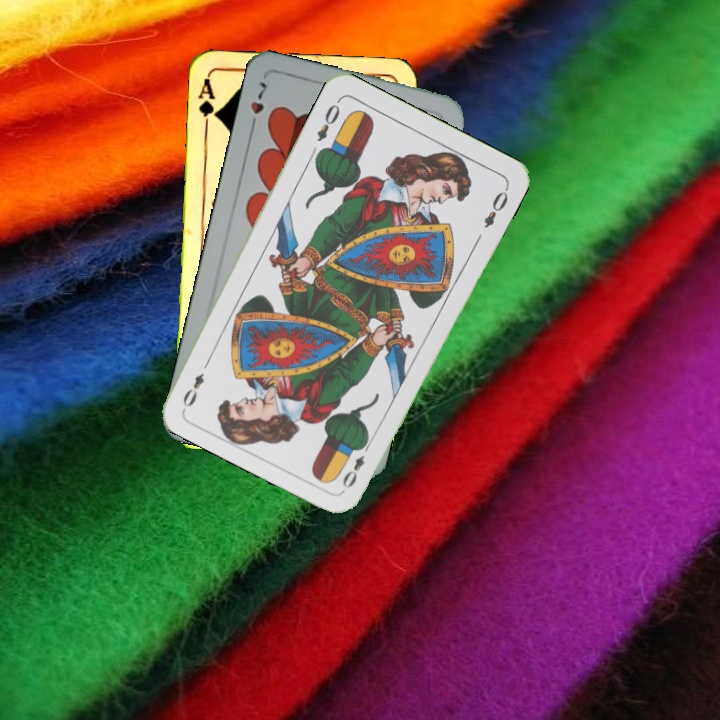EO: (338, 437, 374, 491), (313, 95, 344, 144)
GA: (194, 74, 221, 133)
H7: (246, 77, 273, 133)
